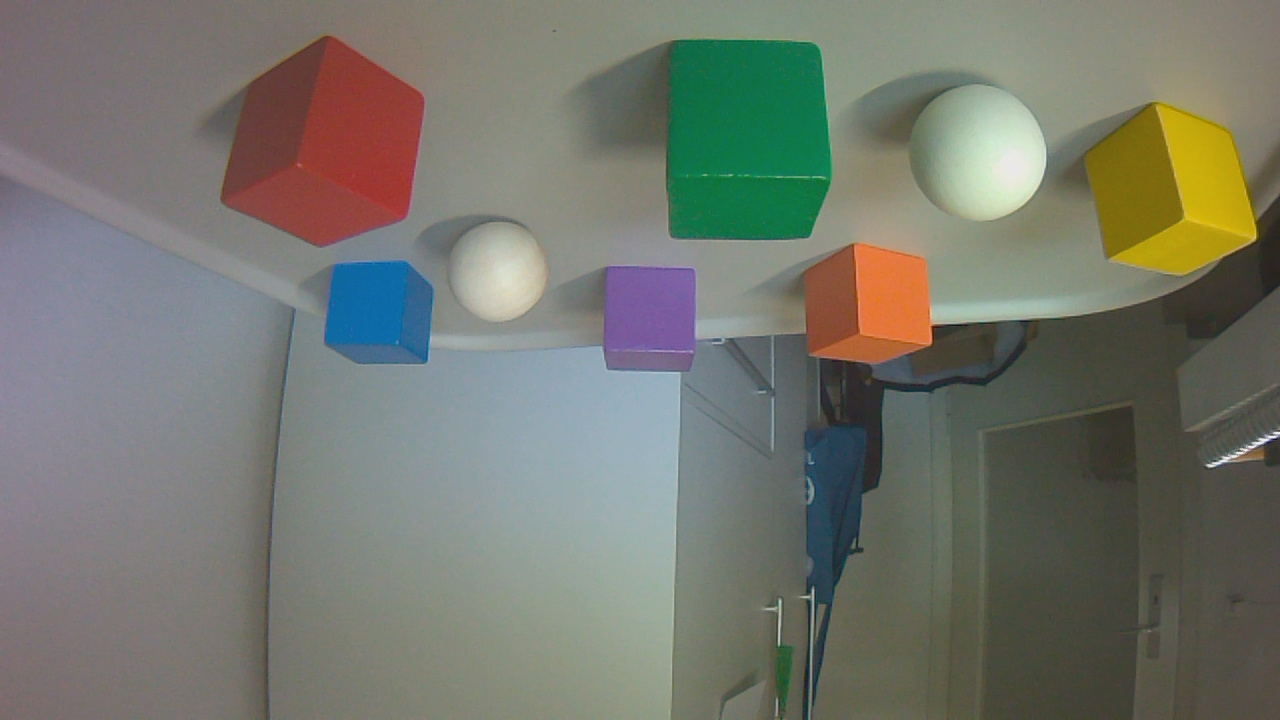ball: (911, 87, 1052, 230), (451, 223, 553, 330)
cube_blue: (326, 263, 441, 373)
cube_green: (668, 41, 839, 247)
cube_orange: (807, 248, 939, 371)
cube_purple: (605, 270, 703, 380)
cube_red: (224, 38, 432, 255)
cube_yellow: (1086, 105, 1262, 284)
